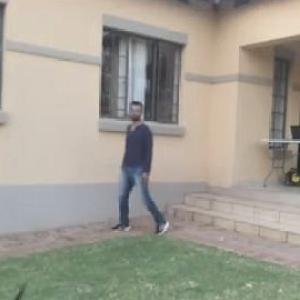follow: (116, 92, 160, 240)
